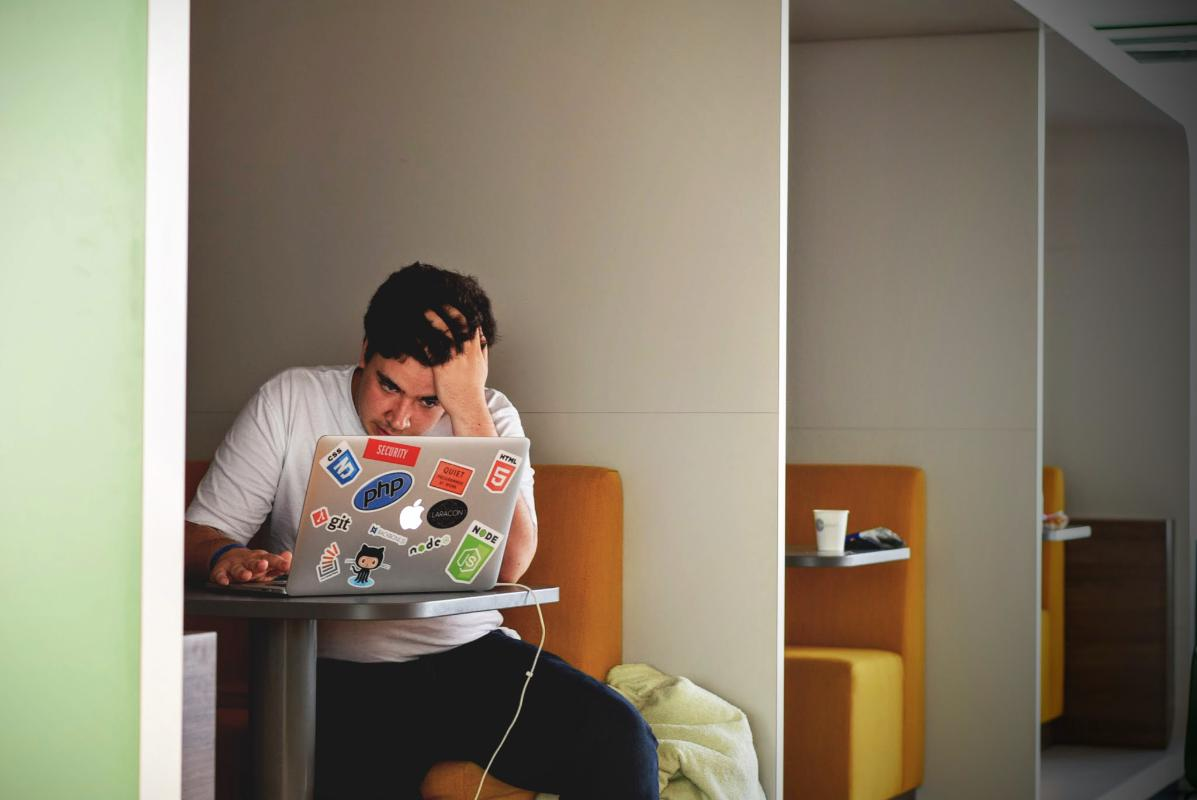Person: (182, 256, 667, 800)
